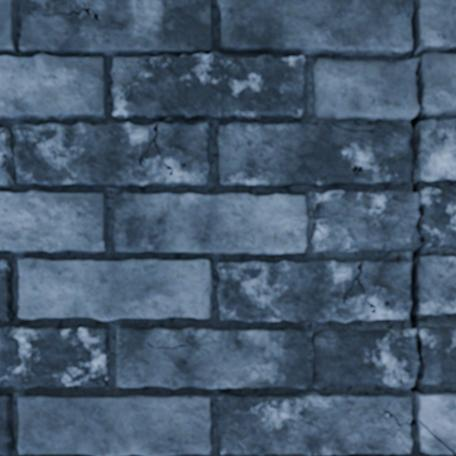brick: (0, 0, 411, 121), (0, 123, 210, 187), (217, 122, 409, 187), (217, 393, 411, 455), (114, 193, 307, 254), (19, 259, 212, 320), (218, 261, 410, 322), (116, 327, 307, 388), (18, 395, 210, 455), (0, 326, 108, 387), (0, 191, 106, 252), (415, 119, 455, 181), (415, 255, 455, 313), (416, 393, 455, 451), (415, 0, 455, 52), (417, 422, 451, 453), (0, 260, 13, 320), (0, 395, 13, 454), (386, 395, 411, 421)
broken_brick: (311, 57, 417, 123), (311, 190, 418, 253), (311, 327, 418, 389), (419, 53, 455, 119), (420, 187, 455, 248), (419, 325, 455, 384)
crack: (376, 0, 455, 454), (136, 121, 173, 176), (341, 260, 376, 313), (329, 120, 375, 132), (113, 228, 122, 236), (376, 120, 390, 124), (0, 127, 5, 135), (427, 52, 444, 54)
